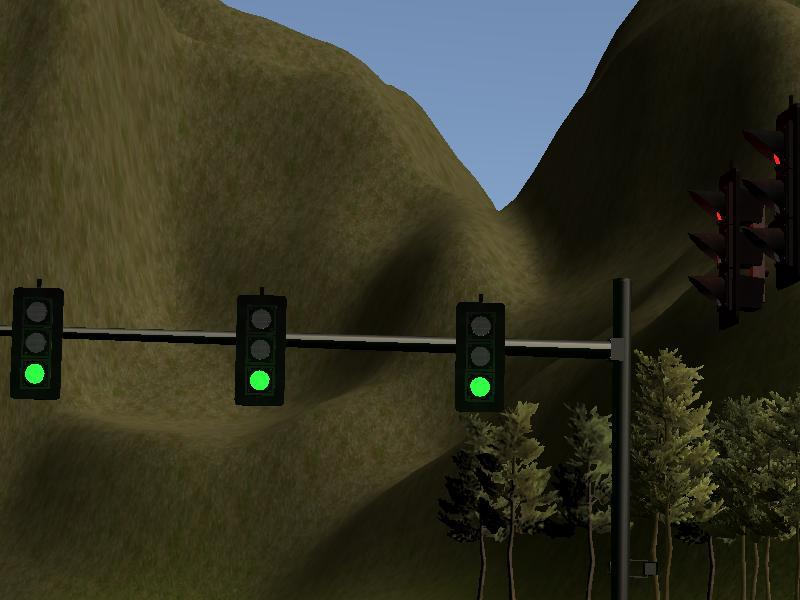Green: (11, 287, 62, 398), (454, 302, 505, 413), (234, 295, 285, 406)
